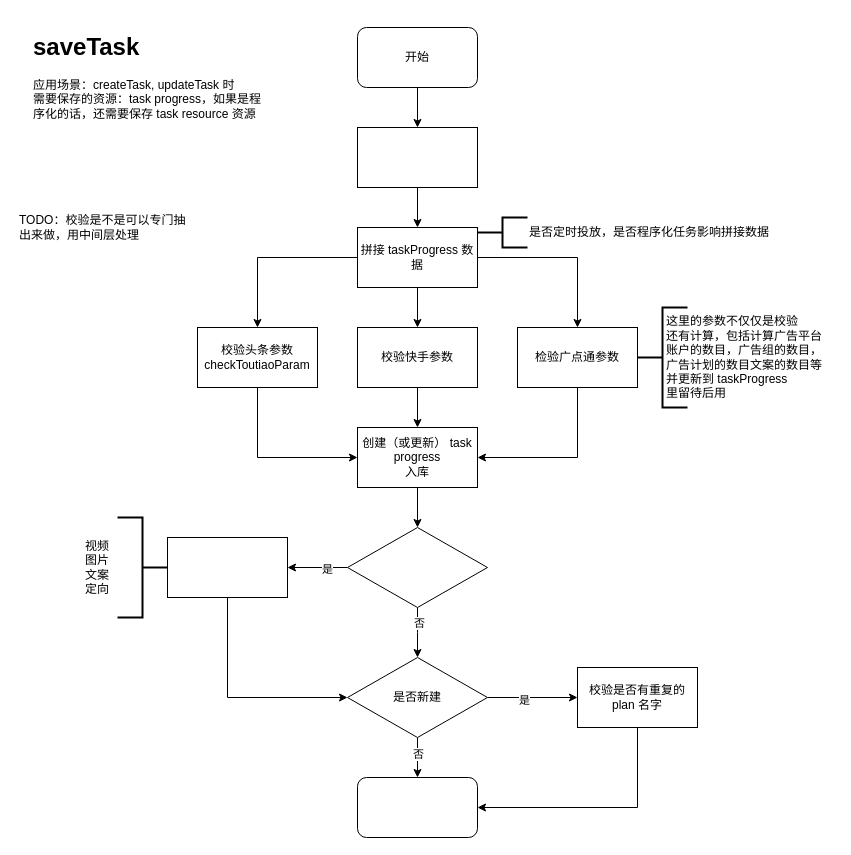
The diagram is 851 pixels wide and 855 high, and some of its shapes have lost their labels. The shapes that lost their labels are listed below. From the top down, each one's centre as x and y in pixels, then its label:
the point at 417,157: 校验参数：名字渠道等
the point at 227,567: 分平台保存 task resource 并入库
the point at 417,567: 是否程序化投放
the point at 417,807: 结束
